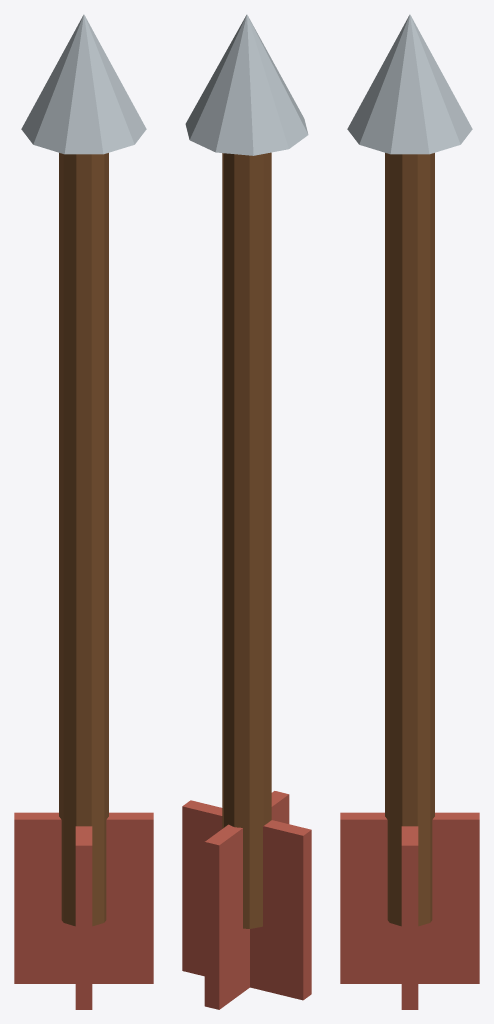
File: arrow.glb
The picture shows the model from 3 angles, left to right: view 1: azimuth 90°, elevation 25°; view 2: azimuth 150°, elevation 25°; view 3: azimuth 270°, elevation 25°; orthographic projection.
Visible parts, largest first — view 1: shaft, fletching_y, point, fletching_x; view 2: shaft, fletching_x, point, fletching_y; view 3: shaft, fletching_y, point, fletching_x.
Part boxes in pixels (x1=…): shaft: x1=59, y1=153, x2=108, y2=926; fletching_y: x1=14, y1=812, x2=153, y2=983; point: x1=21, y1=14, x2=146, y2=154; fletching_x: x1=75, y1=826, x2=92, y2=1009; shaft: x1=222, y1=152, x2=271, y2=928; fletching_x: x1=182, y1=800, x2=311, y2=1000; point: x1=185, y1=14, x2=308, y2=155; fletching_y: x1=204, y1=791, x2=289, y2=1009; shaft: x1=385, y1=153, x2=434, y2=926; fletching_y: x1=340, y1=812, x2=479, y2=983; point: x1=347, y1=14, x2=472, y2=154; fletching_x: x1=401, y1=826, x2=418, y2=1009.
Size of the model in its own units: 0.1 by 0.765 by 0.1.
